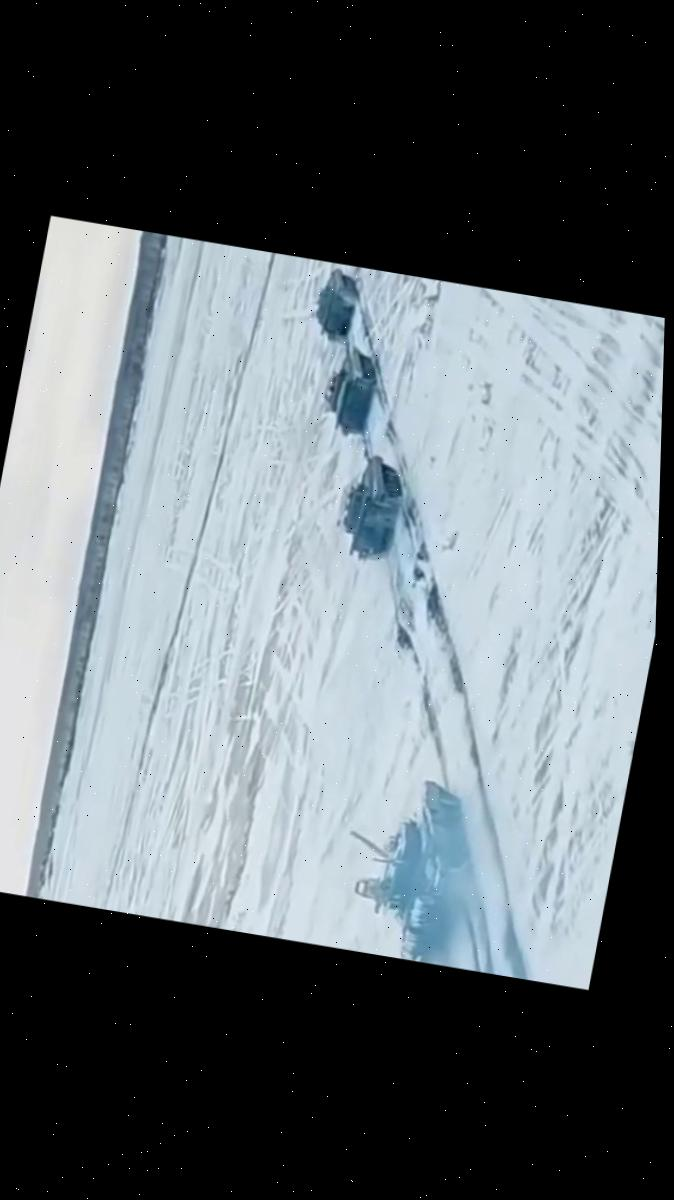tank: (339, 768, 495, 969), (320, 450, 414, 572), (313, 337, 390, 446), (299, 258, 369, 348)
